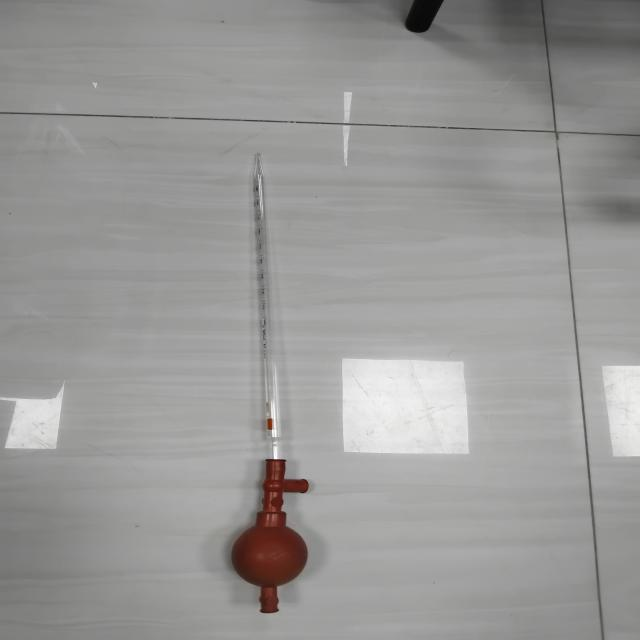Volumetric_Pipet: (173, 120, 398, 640)
